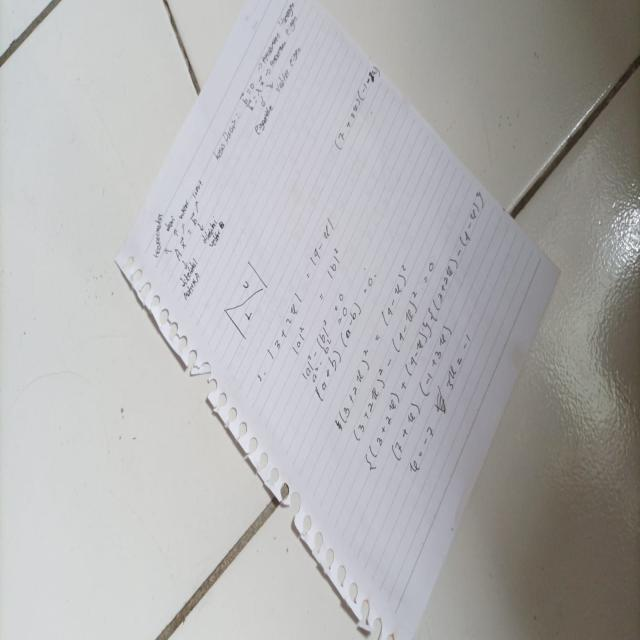Organik: (116, 0, 559, 640)
